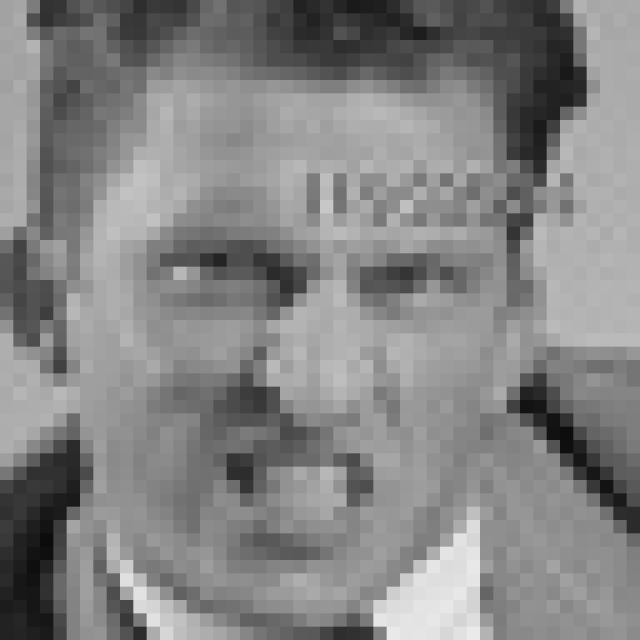angry: (144, 219, 485, 561)
